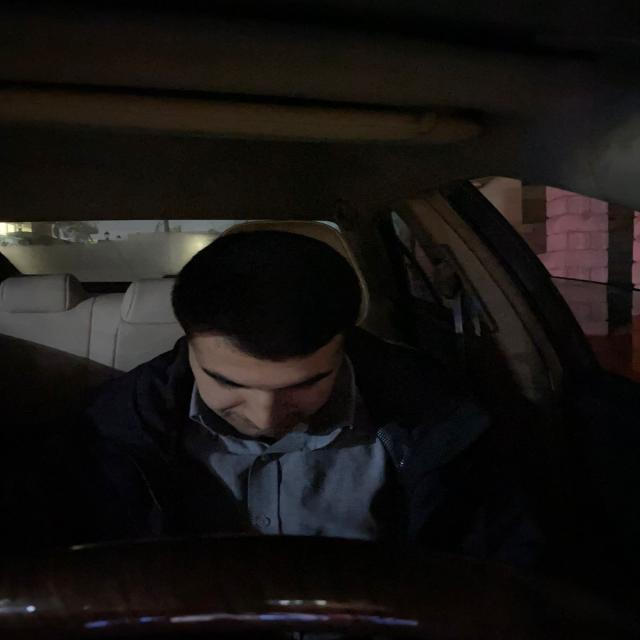drowsy: (170, 228, 377, 440)
